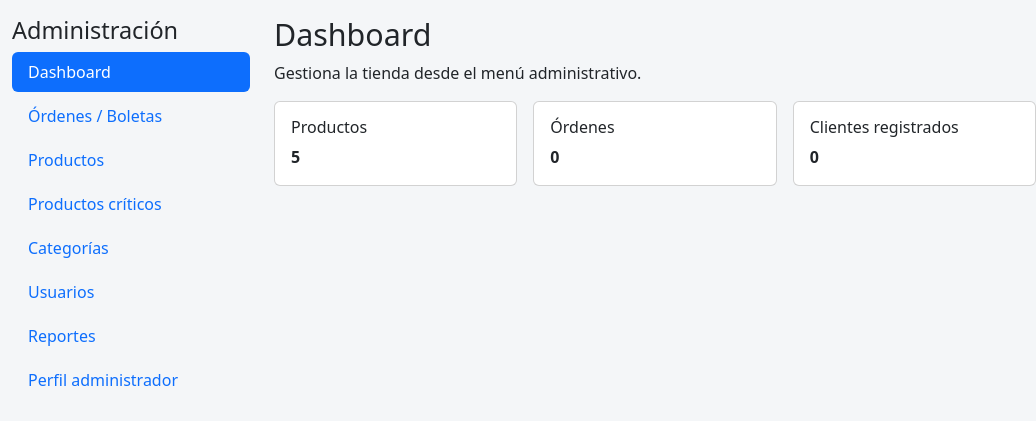
Test: perfil administrativo guarda cambios sin perder el rol
The image size is (1036, 421).
Click the button "Perfil administrador" at point(131, 380), box [12,360,250,400]
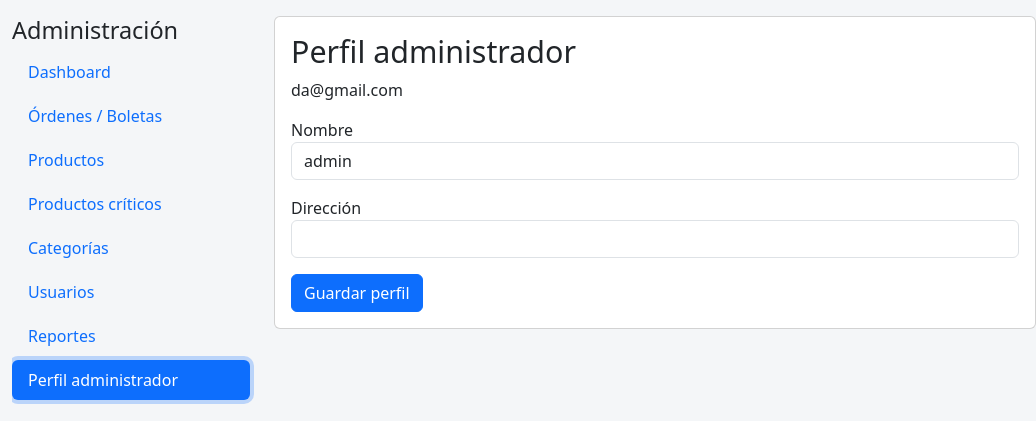
Replace the text in the field labelled "Nombre" with "Administrador Demo" at point(655, 160), box [291,142,1019,180]
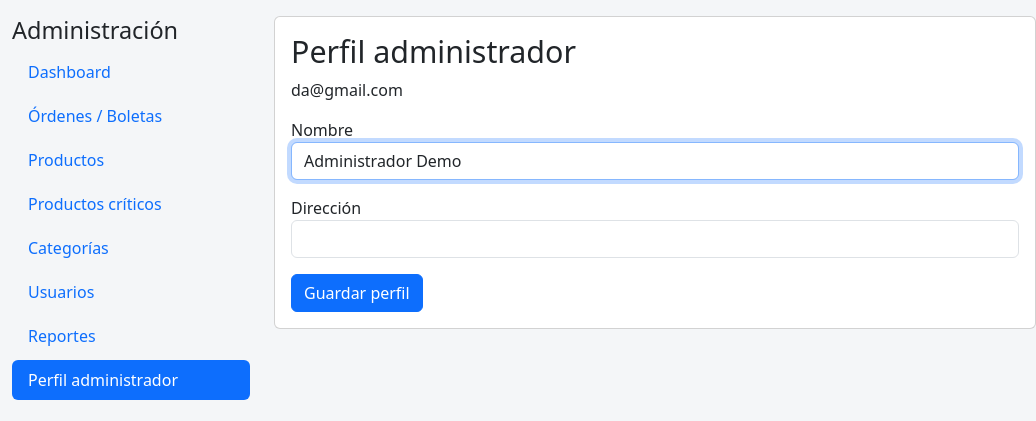
Click the button "Guardar perfil" at point(357, 292), box [291,274,423,312]
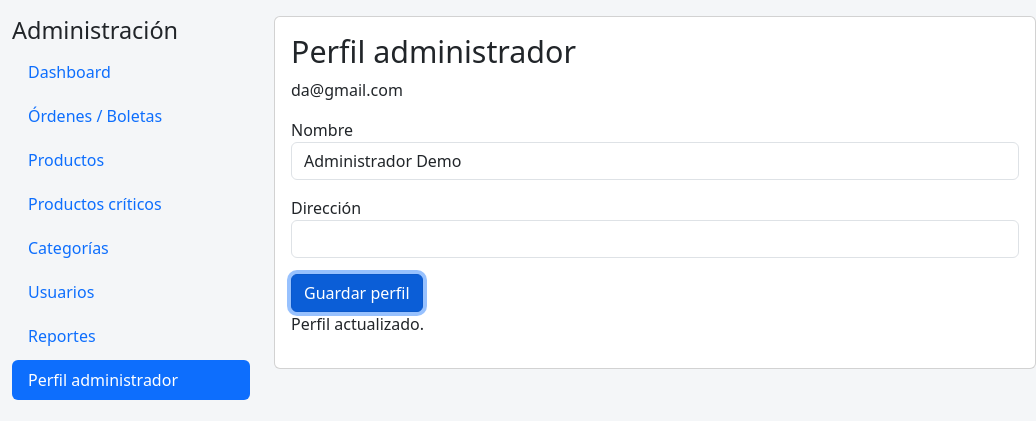
Expected: the message shows "Perfil actualizado", [291,312,424,334]
